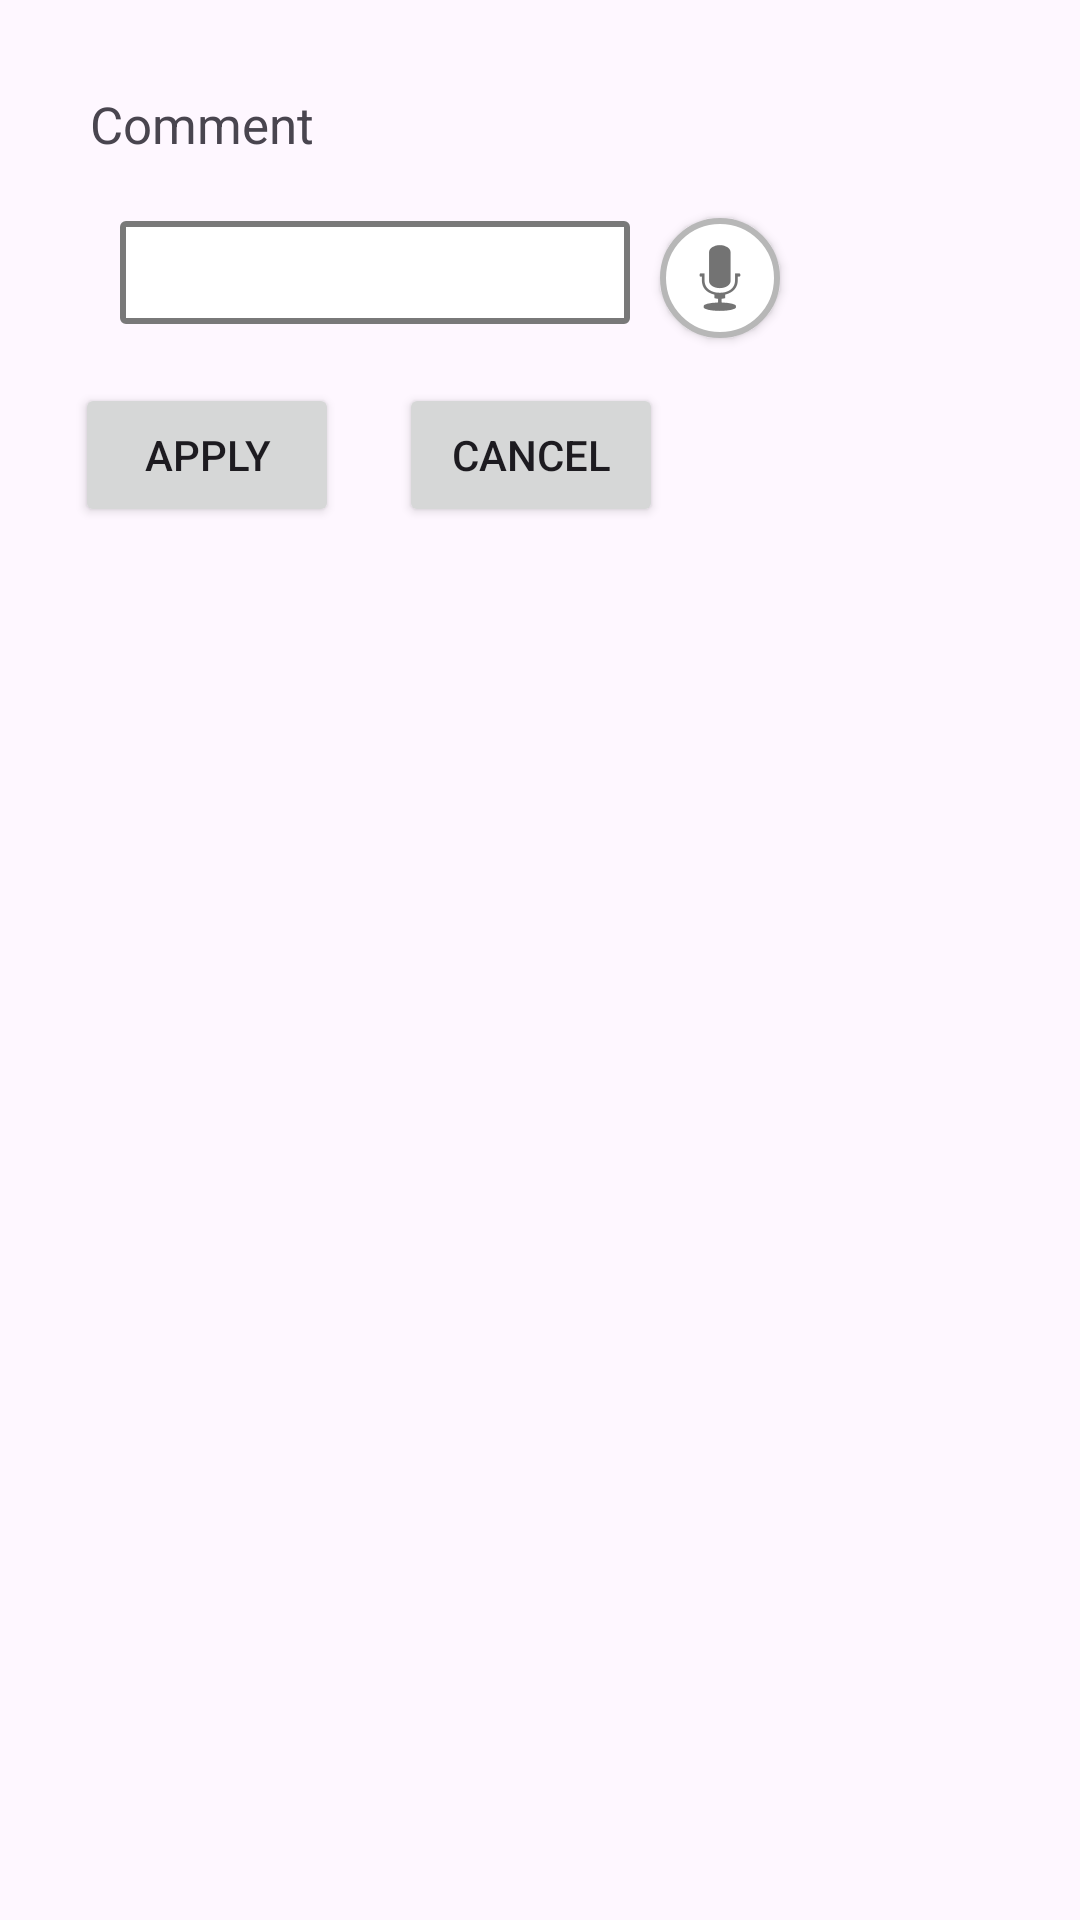

Icon bounding boxes for this 1080 × 1920 phone screenshot, format box(x1, y1, x2, y2):
microphone: box(660, 218, 780, 338)
